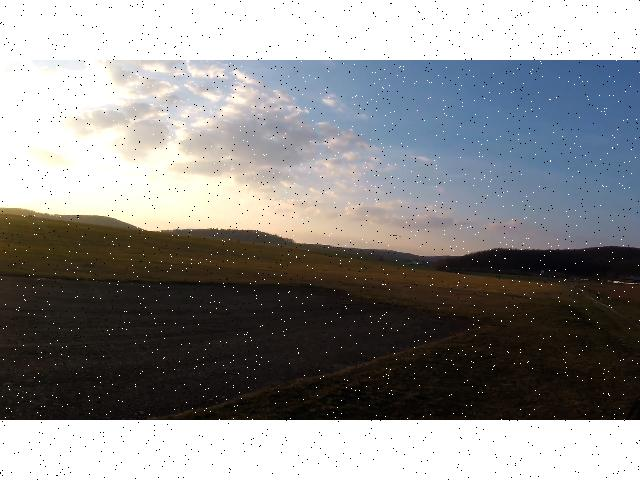Anti-Drone: (385, 226, 407, 242)
